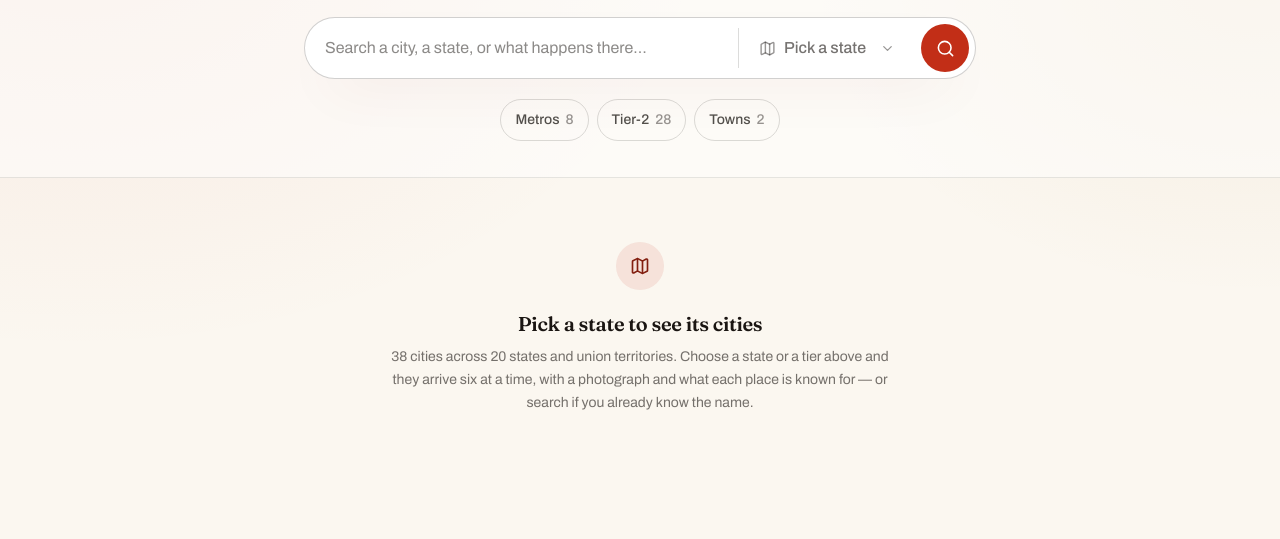
Test: CityExplorer › says so rather than showing an empty grid when nothing matches
The width and height of the screenshot is (1280, 539).
In the search field named "Search cities": (522, 48) [305,18,738,78], type "zzzznowhere"
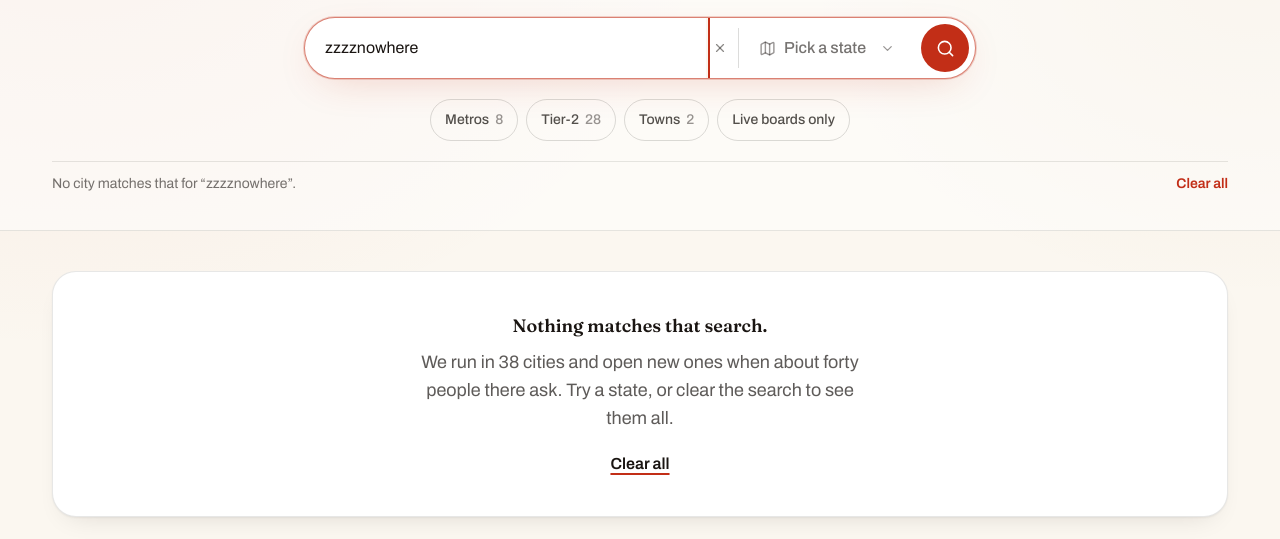
Expected: the text "Nothing matches that search." is shown, [512,314,767,337]
